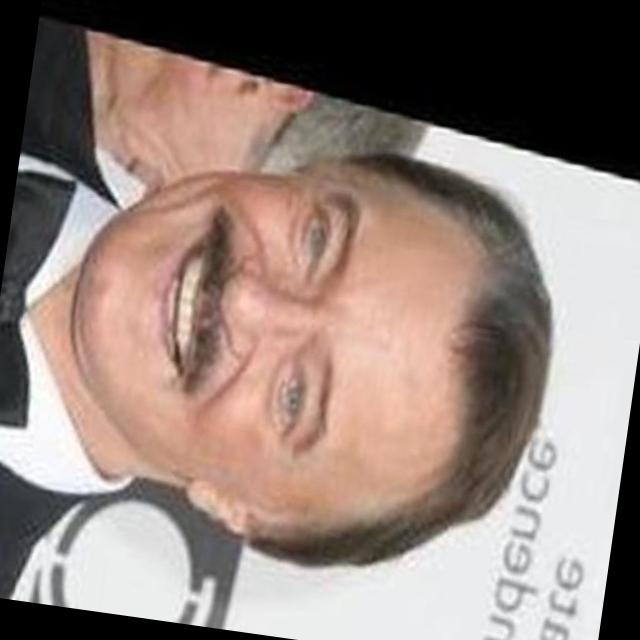bareface: (58, 126, 538, 570)
